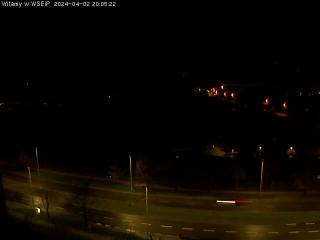car: (214, 194, 252, 209)
